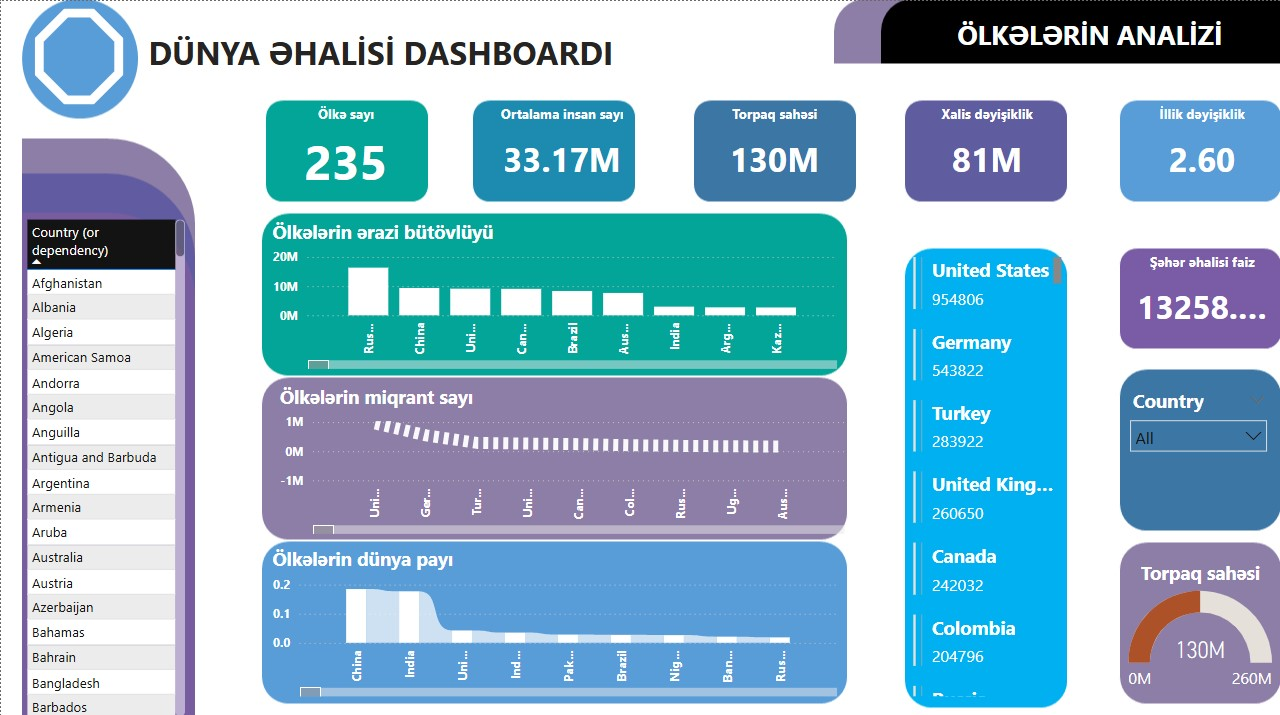

The dashboard page shown, as its layout file describes it:
{"tool":"powerbi","page":{"name":"Page 1","canvas":[1280,720],"ordinal":0},"visuals":[{"type":"card","title":"Ölkə sayı","fields":{"Values":["CountNonNull(Ümumi ölkələr.Country (or dependency))"]},"box":[266.2,103.8,157.5,92.5],"z":1000},{"type":"card","title":"Ortalama insan sayı","fields":{"Values":["Avg(Ümumi ölkələr.Population (2020))"]},"box":[482.5,103.8,157.5,92.5],"z":2000},{"type":"card","title":"Xalis dəyişiklik","fields":{"Values":["Sum(Ümumi ölkələr.Net Change)"]},"box":[907.5,103.8,157.5,92.5],"z":3000},{"type":"card","title":"İllik dəyişiklik","fields":{"Values":["Sum(Ümumi ölkələr.Yearly Change)"]},"box":[1122.5,103.8,157.5,92.5],"z":4000},{"type":"card","title":"Şəhər əhalisi faiz","fields":{"Values":["Sum(Ümumi ölkələr.Urban Pop %)"]},"box":[1122.5,251.2,157.5,92.5],"z":5000},{"type":"card","title":"Torpaq sahəsi","fields":{"Values":["Sum(Ümumi ölkələr.Land Area (Km²))"]},"box":[695,103.8,157.5,92.5],"z":6000},{"type":"multiRowCard","fields":{"Values":["Sum(Ümumi ölkələr.Migrants (net))","Ümumi ölkələr.Country (or dependency)"]},"box":[907.5,251.2,157.5,448.8],"z":7000},{"type":"columnChart","title":"Ölkələrin ərazi bütövlüyü","fields":{"Category":["Ümumi ölkələr.Country (or dependency)"],"Y":["Sum(Ümumi ölkələr.Land Area (Km²))"]},"box":[266.2,217.5,575,155],"z":8000},{"type":"lineChart","title":"Ölkələrin miqrant sayı","fields":{"Category":["Ümumi ölkələr.Country (or dependency)"],"Y":["Sum(Ümumi ölkələr.Migrants (net))"]},"box":[273.8,382.5,575,155],"z":9000},{"type":"ribbonChart","title":"Ölkələrin dünya payı","fields":{"Category":["Ümumi ölkələr.Country (or dependency)"],"Y":["Sum(Ümumi ölkələr.World Share)"]},"box":[266.2,545,575,155],"z":10000},{"type":"gauge","title":"Torpaq sahəsi","fields":{"Y":["Sum(Ümumi ölkələr.Land Area (Km²))"]},"box":[1122.5,558.8,153.8,141.2],"z":11000},{"type":"tableEx","fields":{"Values":["Ümumi ölkələr.Country (or dependency)"]},"box":[20,213.8,168.8,506.2],"z":12000},{"type":"textbox","box":[142.5,25,475,171.2],"z":13000},{"type":"textbox","box":[951.2,10,300,300],"z":14000},{"type":"slicer","fields":{"Values":["Ümumi ölkələr.Country (or dependency)"]},"box":[1118.8,382.5,157.5,82.5],"z":15000},{"type":"shape","box":[33.8,7.5,88.8,96.2],"z":15002}]}

Visuals, with their boxes in screenshot pixels (x1, y1, x2, y2), scaled from the page's 1280x720 canvas onto the 1280x715 screenshot:
"Ölkə sayı" card: <box>266,103,424,195</box>
"Ortalama insan sayı" card: <box>482,103,640,195</box>
"Xalis dəyişiklik" card: <box>908,103,1065,195</box>
"İllik dəyişiklik" card: <box>1122,103,1279,195</box>
"Şəhər əhalisi faiz" card: <box>1122,249,1279,341</box>
"Torpaq sahəsi" card: <box>695,103,852,195</box>
multiRowCard - Sum(Ümumi ölkələr.Migrants (net)) x Ümumi ölkələr.Country (or dependency): <box>908,249,1065,695</box>
"Ölkələrin ərazi bütövlüyü" columnChart: <box>266,216,841,370</box>
"Ölkələrin miqrant sayı" lineChart: <box>274,380,849,534</box>
"Ölkələrin dünya payı" ribbonChart: <box>266,541,841,695</box>
"Torpaq sahəsi" gauge: <box>1122,555,1276,695</box>
tableEx - Ümumi ölkələr.Country (or dependency): <box>20,212,189,714</box>
textbox: <box>142,25,618,195</box>
textbox: <box>951,10,1251,308</box>
slicer - Ümumi ölkələr.Country (or dependency): <box>1119,380,1276,462</box>
shape: <box>34,7,123,103</box>
